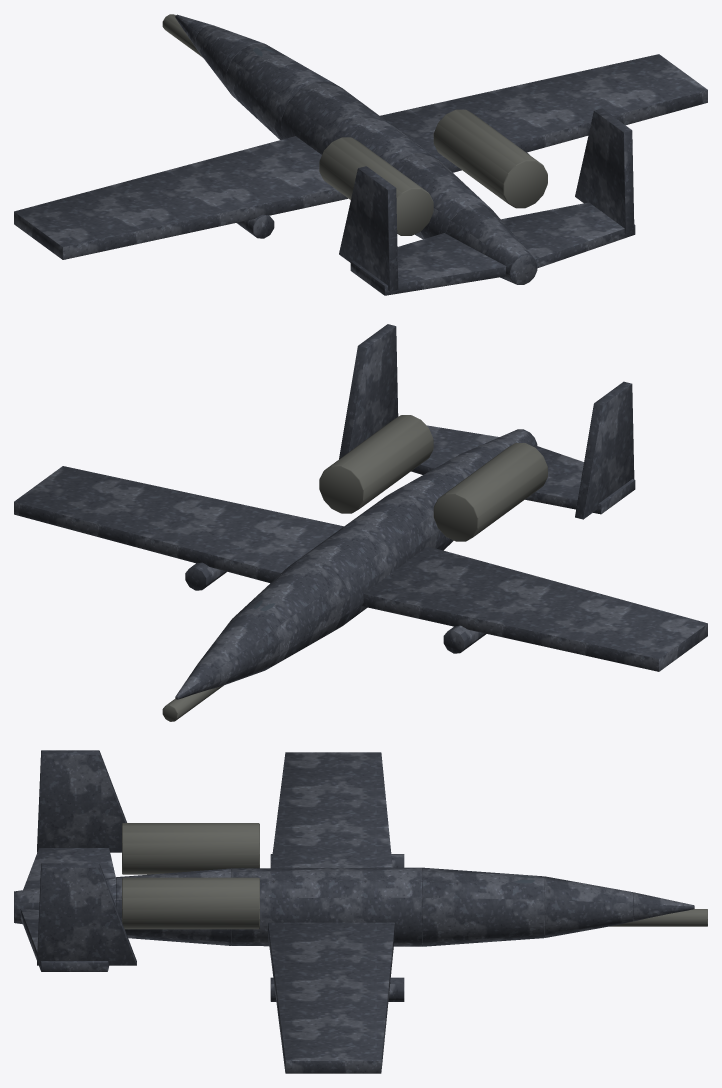
Rendered from air_e1_us_cas_LOD0.glb.
3 renders of one model, top to bottom at view 1: azimuth 30°, elevation 25°; view 2: azimuth 150°, elevation 25°; view 3: azimuth 270°, elevation 25°, orthographic.
Visible parts, largest first — view 1: air_e1_us_cas_LOD0_body, air_e1_us_cas_LOD0_gun; view 2: air_e1_us_cas_LOD0_body, air_e1_us_cas_LOD0_gun; view 3: air_e1_us_cas_LOD0_body, air_e1_us_cas_LOD0_gun.
Boxes of the visible parts, bbox=[...] form: air_e1_us_cas_LOD0_body: bbox=[14, 14, 707, 295]; air_e1_us_cas_LOD0_gun: bbox=[162, 14, 547, 235]; air_e1_us_cas_LOD0_body: bbox=[14, 324, 707, 699]; air_e1_us_cas_LOD0_gun: bbox=[162, 415, 547, 721]; air_e1_us_cas_LOD0_body: bbox=[14, 750, 694, 1073]; air_e1_us_cas_LOD0_gun: bbox=[122, 823, 707, 929].
Size of the model in its own units: 17.5 by 3.55 by 16.62.
Materials: 3 (1 with a texture image).
